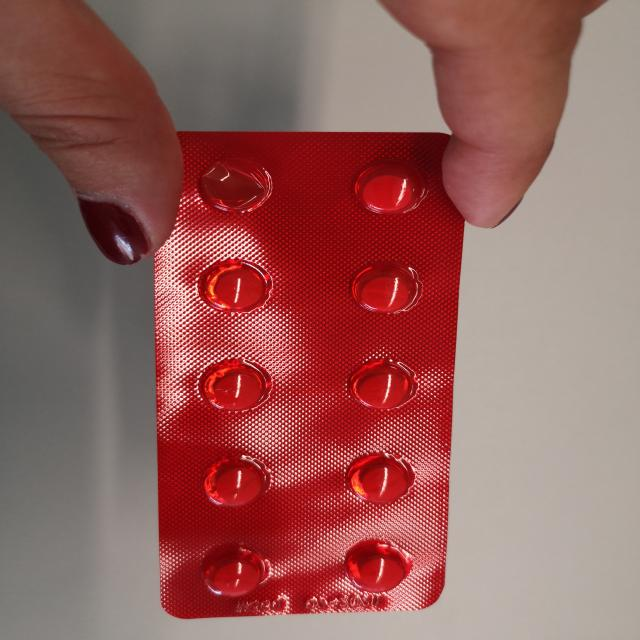Empty: (187, 150, 288, 221)
Pill: (189, 256, 286, 320), (189, 449, 280, 516), (336, 442, 424, 511), (189, 540, 284, 602), (187, 355, 278, 419), (338, 352, 426, 414), (336, 534, 420, 597), (348, 257, 422, 324), (352, 162, 423, 220)
